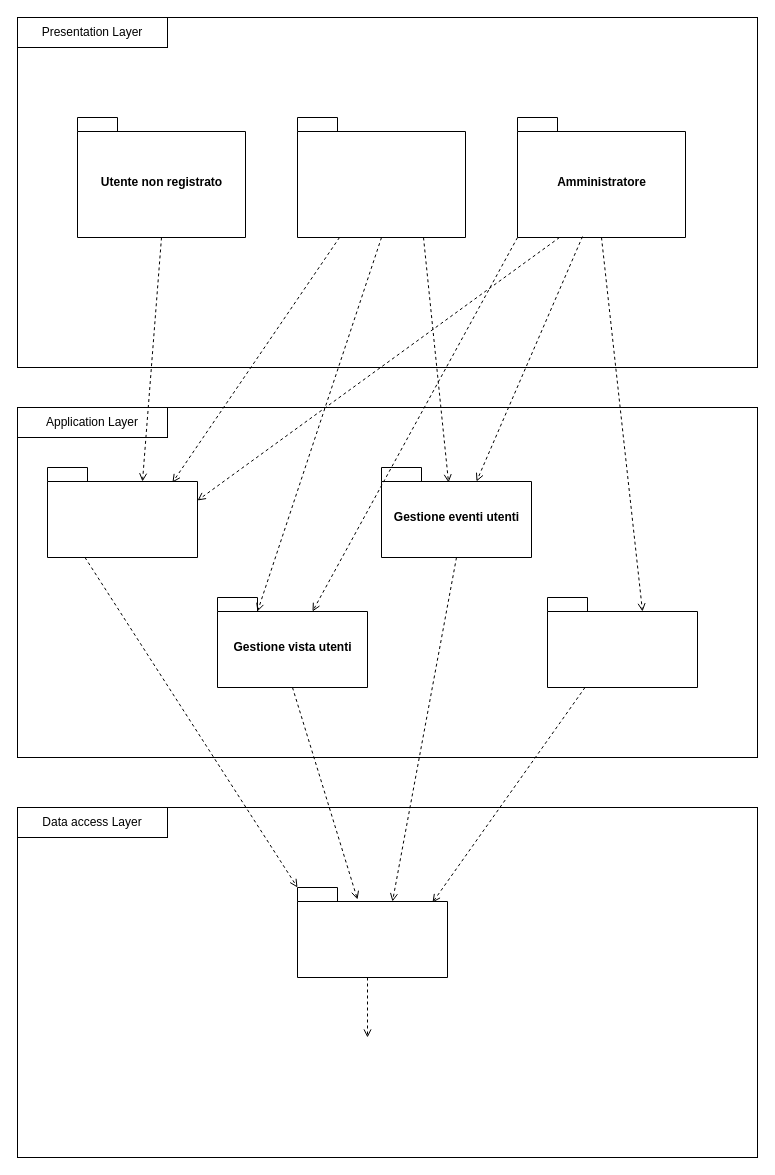
The diagram is 775 pixels wide and 1175 high, and some of its shapes have lost their labels. The centre of each missing label's shape, as x and y in pixels:
"Gestione Database" goes at (x=372, y=932).
"Gestione eventi amministratore" goes at (x=622, y=642).
"Gestione utente" goes at (x=122, y=512).
"Utente registrato" goes at (x=381, y=177).
